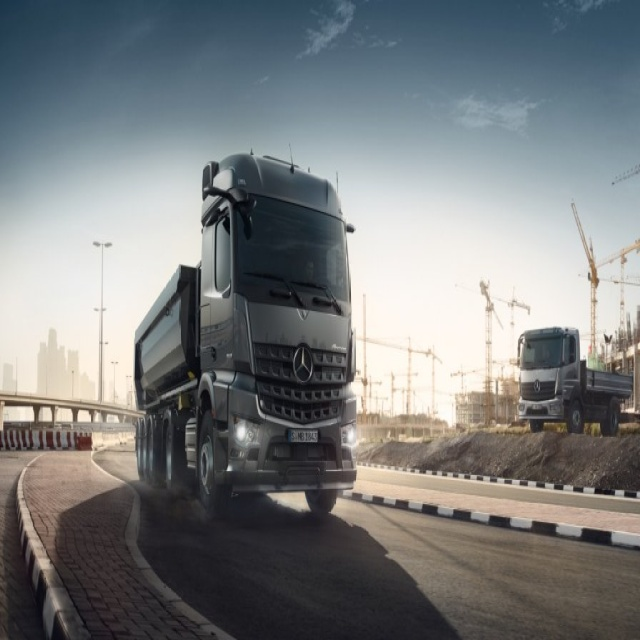truck: (136, 149, 360, 516), (515, 327, 632, 434)
